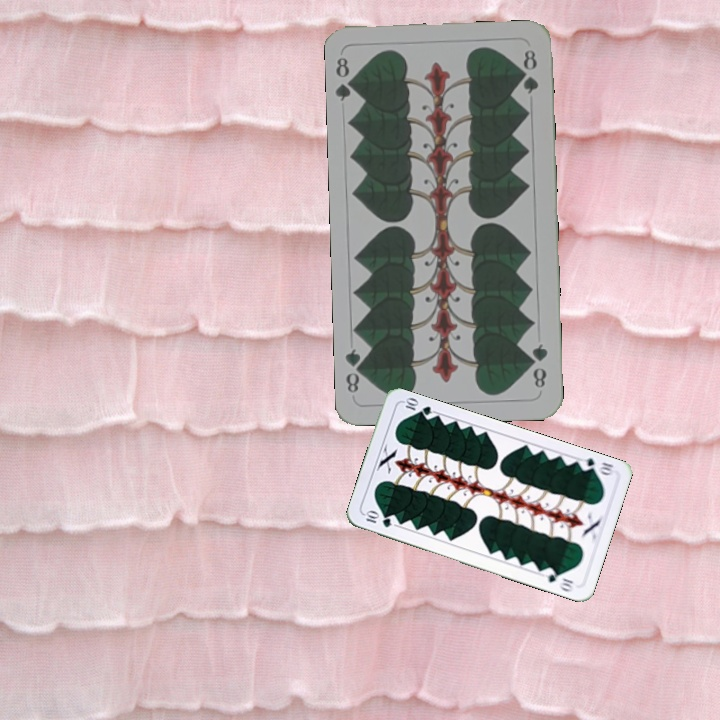G10: (575, 454, 616, 478), (360, 508, 395, 530)
G8: (332, 53, 360, 104), (527, 340, 551, 391)
